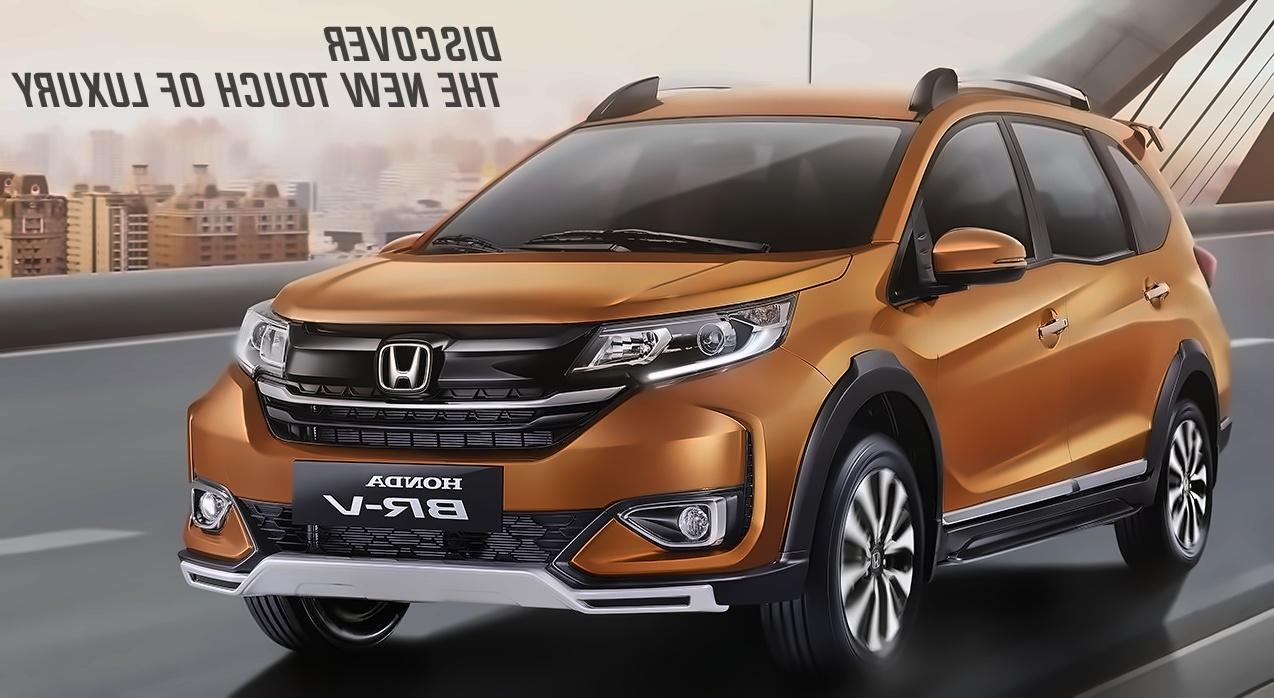Car hood: (270, 248, 862, 339)
Fender - -F-L-: (782, 239, 962, 596)
Fender - -R-L-: (1160, 254, 1228, 410)
Front bumper: (175, 361, 848, 619)
Headlight - -L-: (558, 287, 802, 399)
Headlight - -R-: (224, 290, 299, 394)
Passenger-s door - -F-L-: (902, 94, 1070, 517)
Passenger-s door - -R-L-: (1037, 103, 1196, 494)
Rear bumper: (1204, 330, 1258, 480)
Rear light - -L-: (1184, 216, 1239, 292)
Side bumper - -L-: (918, 448, 1161, 588)
Side mirror - -L-: (922, 218, 1035, 301)
Side mirror - -R-: (369, 216, 432, 265)
